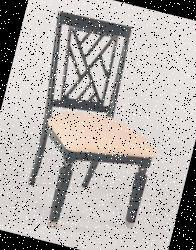Silla: (10, 9, 185, 247)
